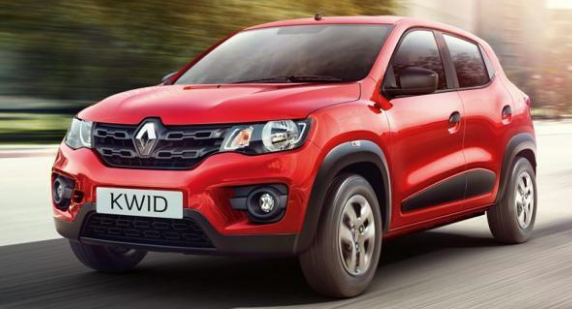car: (49, 12, 542, 302)
